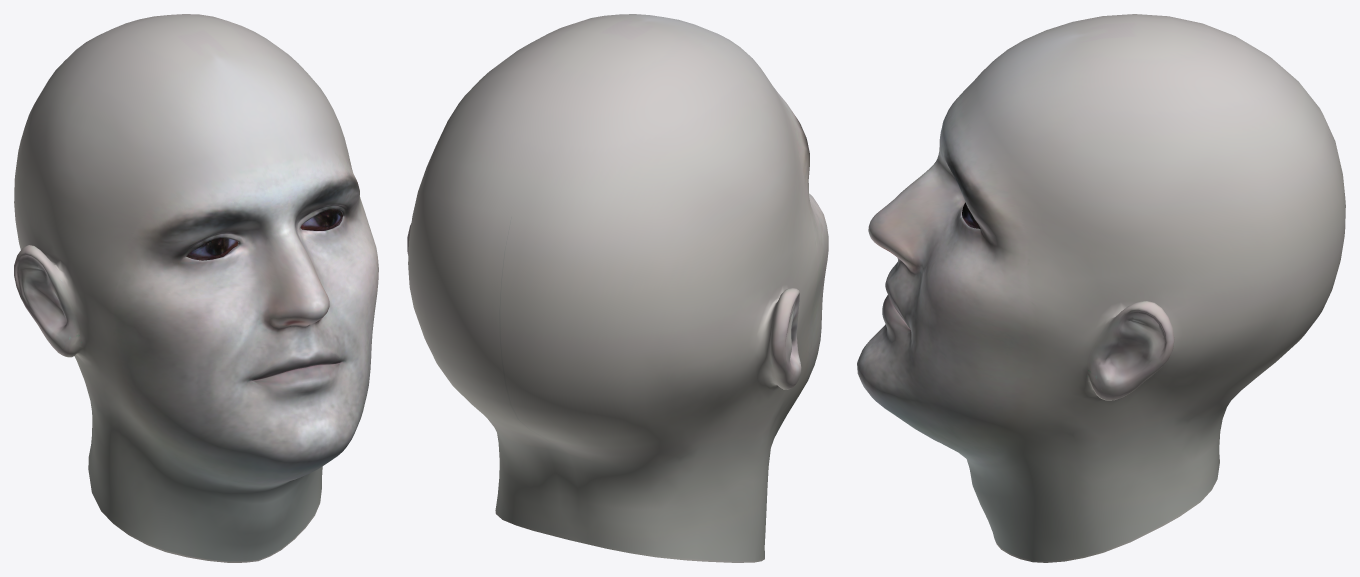
The picture shows the model from 3 angles, left to right: view 1: azimuth 30°, elevation 25°; view 2: azimuth 150°, elevation 25°; view 3: azimuth 270°, elevation 25°; orthographic projection. The views are drawn at different scales.
Parts seen in each view (by area): view 1: skin_hi, eyeR_hi, eyeL_hi; view 2: skin_hi; view 3: skin_hi.
Part boxes in pixels (<box>): skin_hi: <box>14,14,378,562</box>; eyeR_hi: <box>186,238,237,260</box>; eyeL_hi: <box>300,209,342,230</box>; skin_hi: <box>407,14,828,562</box>; skin_hi: <box>857,14,1345,562</box>.
Bounding box in the file's own units: 199 × 278 × 242.
